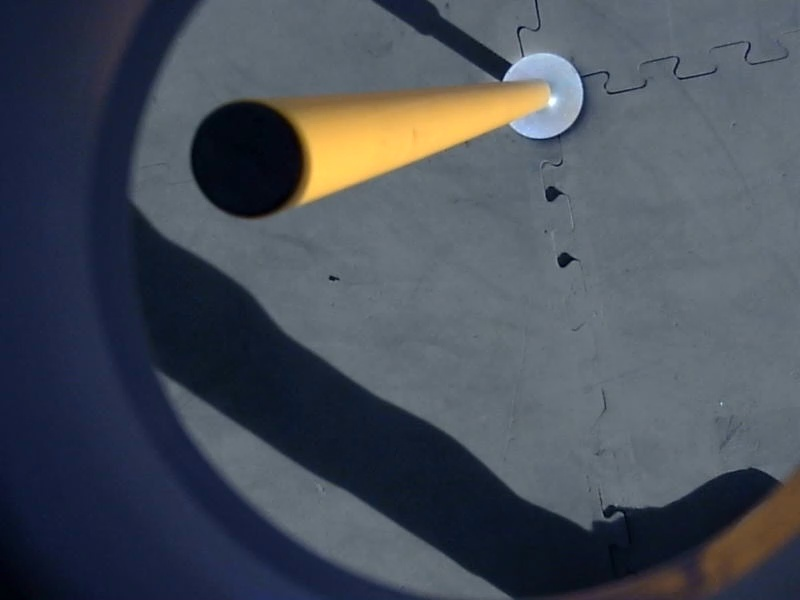tip: (181, 94, 316, 225)
